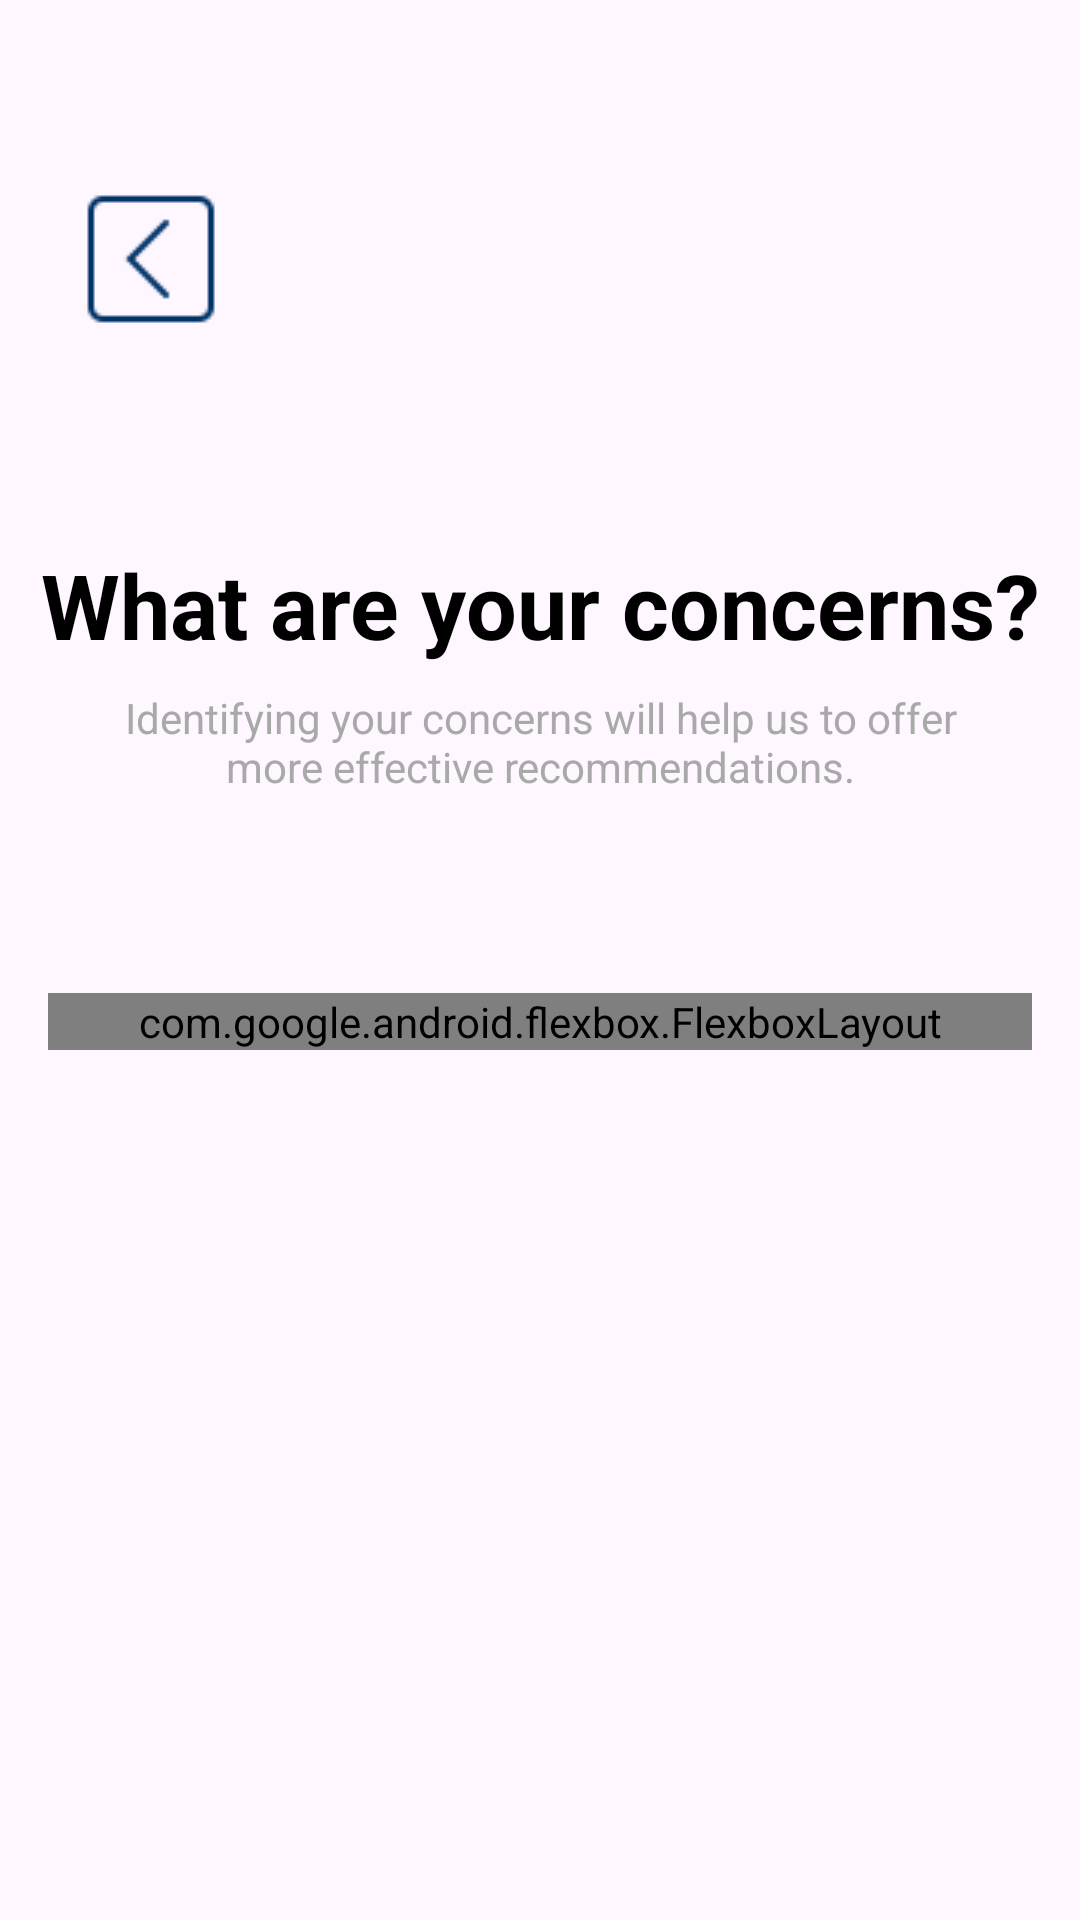

Named icons in this screenshot (1080x1920) and their centers, (x=x, y=y):
back button: (x=151, y=259)
